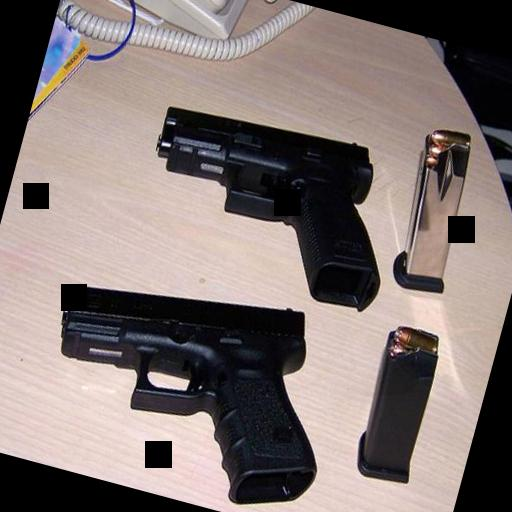Handgun: (25, 248, 353, 512), (124, 92, 411, 318)
